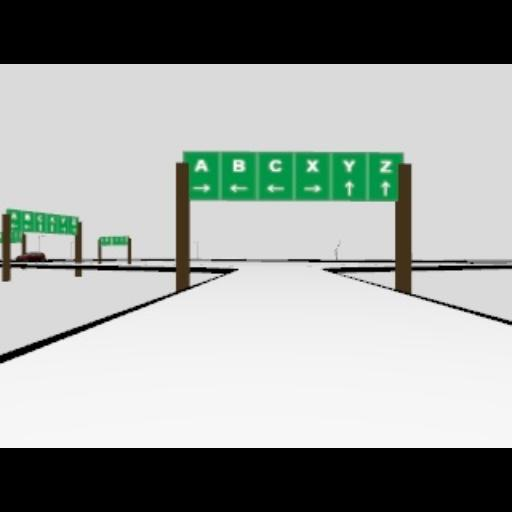A: (193, 158, 209, 174)
B: (232, 158, 246, 174)
C: (268, 158, 284, 174)
Right: (302, 184, 322, 192)
Straight: (345, 181, 355, 197), (381, 180, 391, 196)
X: (306, 158, 320, 174)
Y: (342, 158, 356, 174)
Z: (379, 160, 393, 174)
